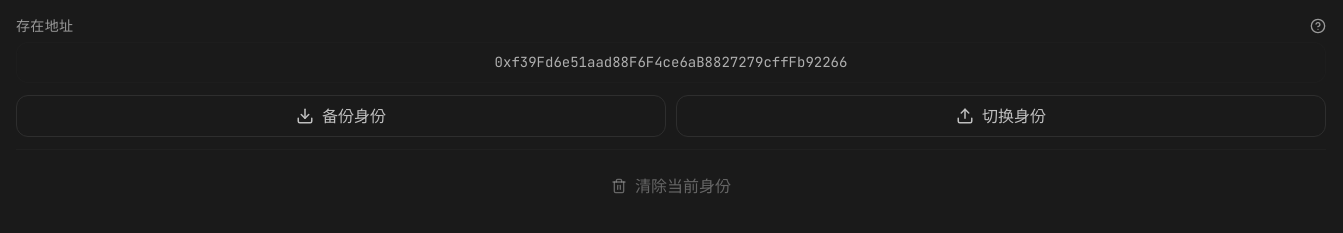
Scenario: IdentityPanel › Reset Functionality › should navigate to reset confirmation mode
Expected: the text "清除当前身份" is shown, left=635, top=174, right=731, bottom=198
Click the button "清除当前身份" at (671, 186), box left=16, top=166, right=1326, bottom=206
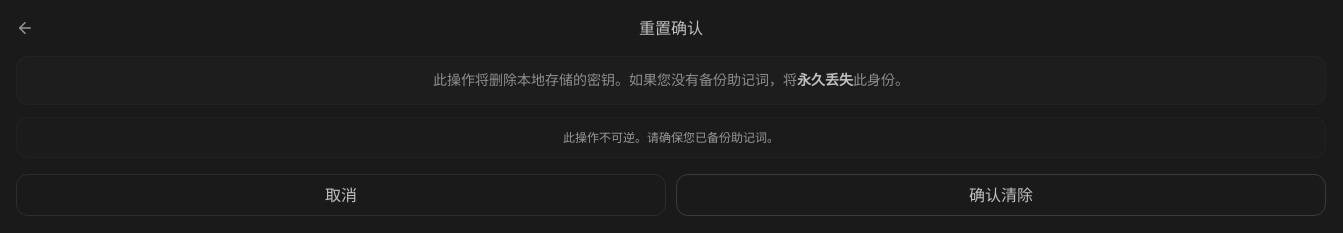
Result: the heading "重置确认" is shown at left=639, top=16, right=703, bottom=40
Result: the text "此操作不可逆。请确保您已备份助记词。" is shown at left=563, top=130, right=779, bottom=145
